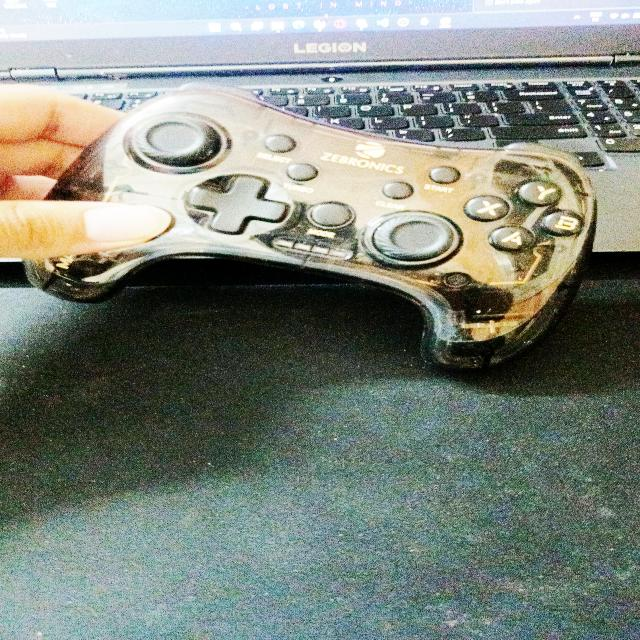gamepad: (21, 83, 598, 372)
